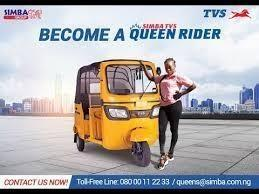keke: (73, 59, 168, 166)
